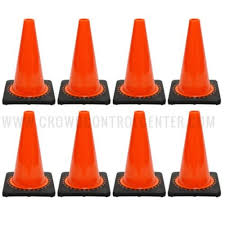cones: (167, 18, 221, 107), (112, 110, 165, 200), (1, 19, 54, 107), (169, 110, 222, 198), (58, 18, 109, 107), (59, 110, 111, 197), (116, 19, 168, 104), (2, 112, 55, 195)
